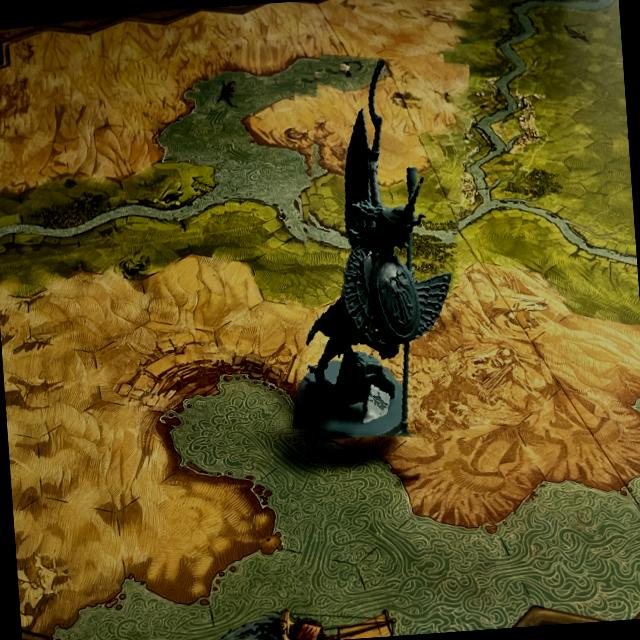isis: (279, 48, 482, 444)
